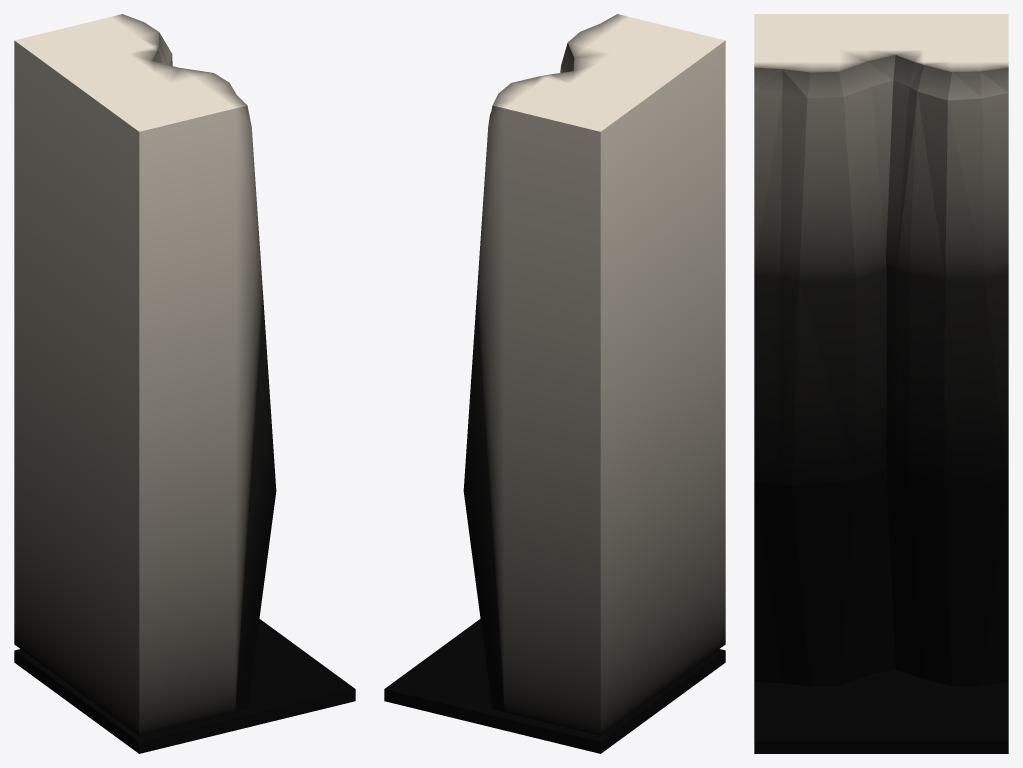
Rendered from SM_VKI_Ground_Cave_OXXO_Q01.fbx.
The picture shows the model from 3 angles, left to right: view 1: azimuth 30°, elevation 25°; view 2: azimuth 150°, elevation 25°; view 3: azimuth 270°, elevation 25°; orthographic projection.
Parts seen in each view (by area): view 1: SM_VKI_Ground_Cave_OXXO_Q01.001; view 2: SM_VKI_Ground_Cave_OXXO_Q01.001; view 3: SM_VKI_Ground_Cave_OXXO_Q01.001.
Boxes of the visible parts, x1,y1,x2,y2 form: SM_VKI_Ground_Cave_OXXO_Q01.001: [14, 14, 355, 753]; SM_VKI_Ground_Cave_OXXO_Q01.001: [384, 14, 725, 753]; SM_VKI_Ground_Cave_OXXO_Q01.001: [754, 14, 1008, 753].
Bounding box in the file's own units: 1.5 × 4.12 × 1.5.
